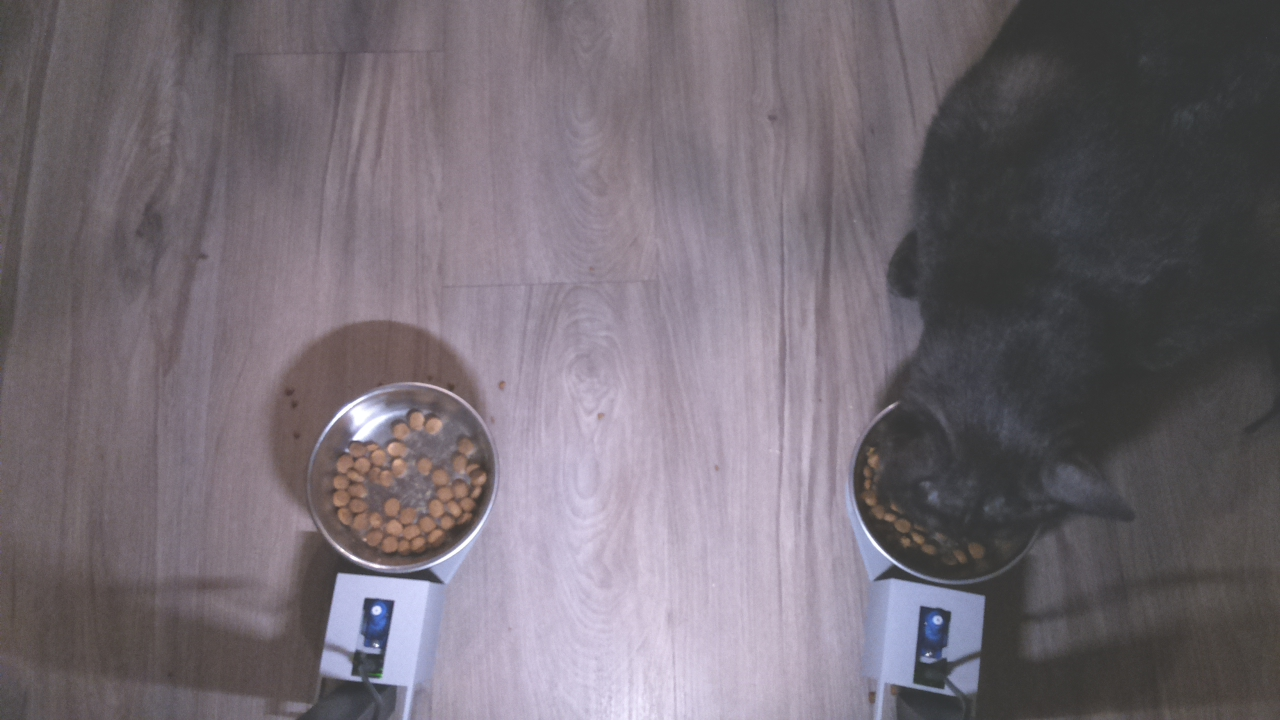open_bowl: (301, 372, 507, 578)
saki_eating: (842, 306, 1165, 586)
